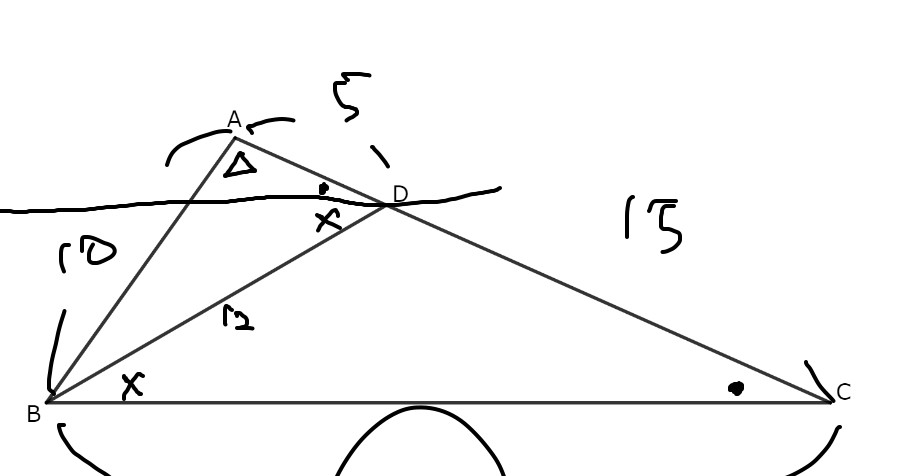Angle_Point: (723, 376, 748, 397), (311, 176, 335, 195)
Angle_x: (111, 364, 148, 403), (312, 204, 343, 232)
